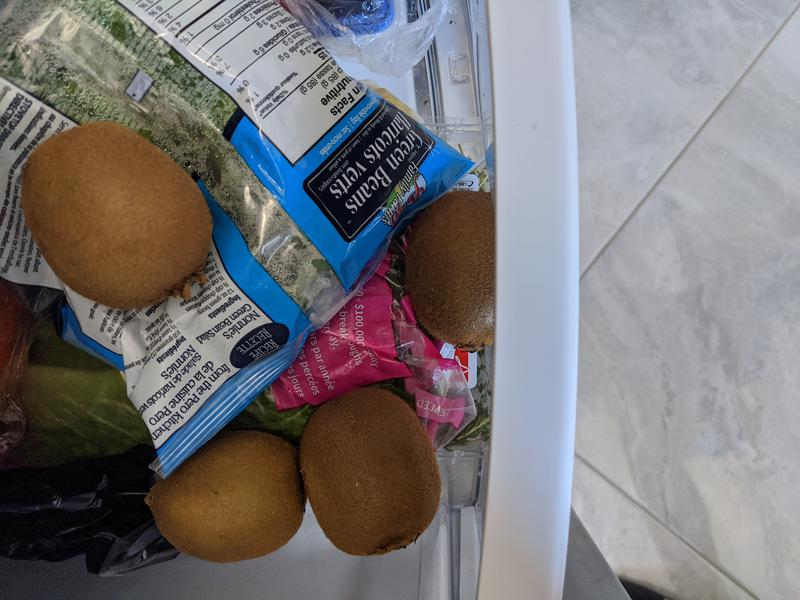kiwi: (21, 121, 213, 310), (301, 386, 442, 558), (148, 430, 306, 563), (404, 190, 497, 351)
